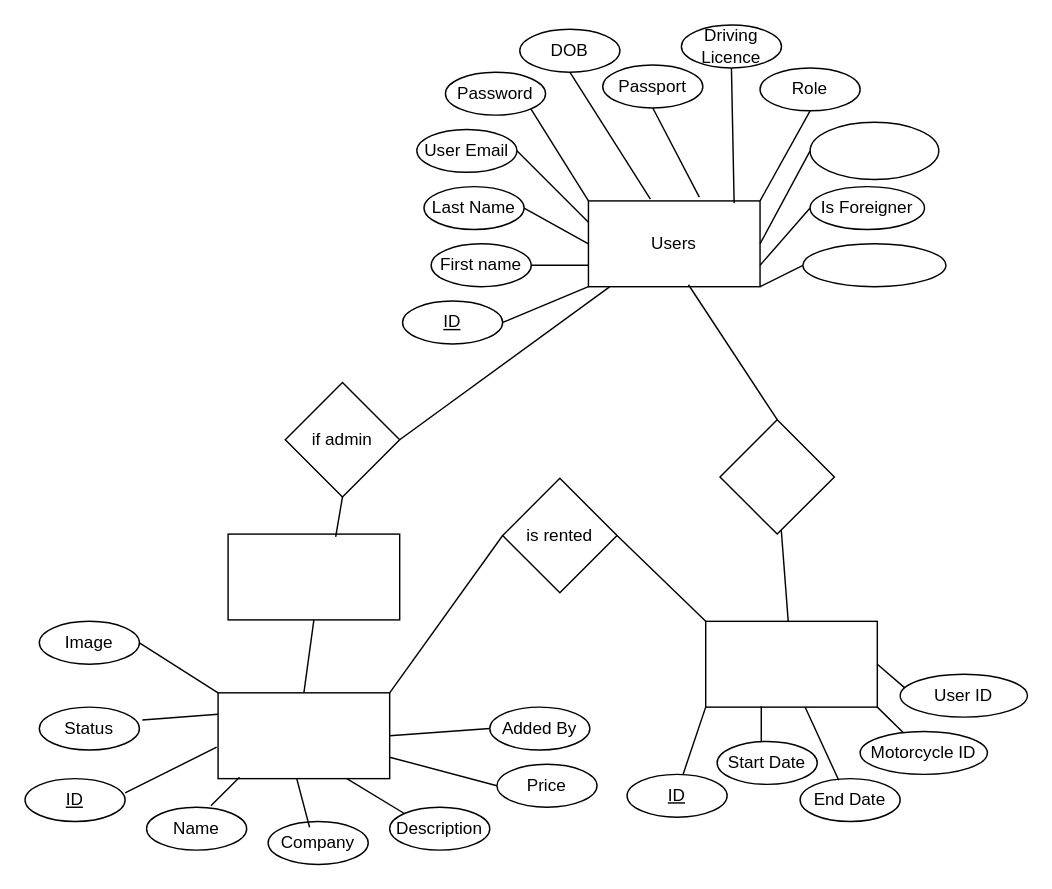
This 1052x889 diagram has some shape labels left out. Here are the shapes that lost their labels. From the top down, the centre of each, then its label:
At point (874, 150): "Rented Motorcycle".
At point (874, 264): "Phone Number".
At point (776, 476): "Verified".
At point (313, 576): "Manage".
At point (790, 663): "Rents".
At point (303, 735): "Motorcycles".
